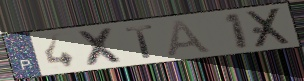1: (223, 11, 253, 51)
4: (45, 32, 79, 70)
A: (166, 18, 215, 59)
T: (123, 23, 157, 60)
X: (74, 26, 129, 68), (244, 6, 295, 50)
